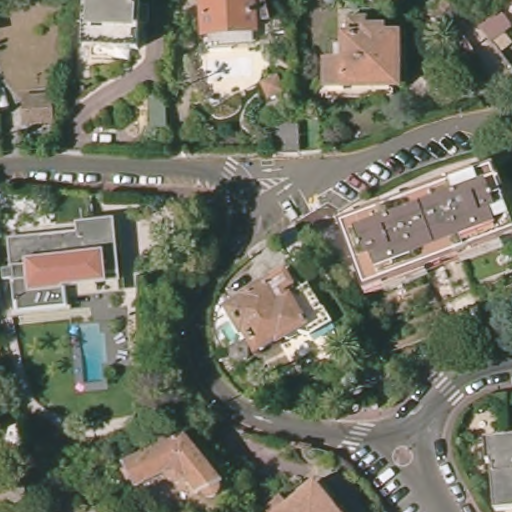pool: (73, 322, 113, 385), (215, 320, 243, 346)
